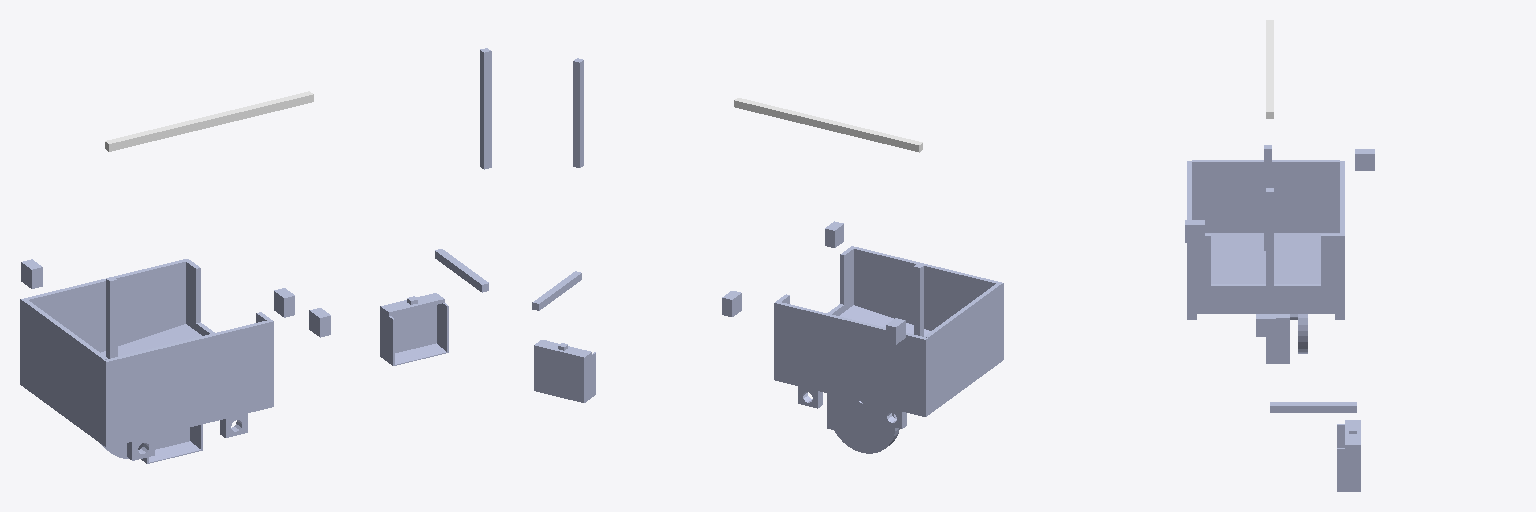
robot.urdf — bot13:
<?xml version="1.0" encoding="utf-8"?>
<!-- This URDF was automatically created by SolidWorks to URDF Exporter! Originally created by [author] ([email redacted]) 
     Commit Version: 1.4.4-24-g24328f6  Build Version: 1.5.7084.36479
     For more information, please see http://wiki.ros.org/sw_urdf_exporter -->
<robot
  name="bot13">
  <link
    name="base_link">
    <inertial>
      <origin
        xyz="0.029232 0.047061 -5.6957E-05"
        rpy="0 0 0" />
      <mass
        value="10.067" />
      <inertia
        ixx="0.22006"
        ixy="-0.0014375"
        ixz="-6.9803E-05"
        iyy="0.35668"
        iyz="7.4306E-05"
        izz="0.19974" />
    </inertial>
    <visual>
      <origin
        xyz="0 0 0"
        rpy="0 0 0" />
      <geometry>
        <mesh
          filename="package://bot13/meshes/base_link.STL" />
      </geometry>
      <material
        name="">
        <color
          rgba="0.79216 0.81961 0.93333 1" />
      </material>
    </visual>
    <collision>
      <origin
        xyz="0 0 0"
        rpy="0 0 0" />
      <geometry>
        <mesh
          filename="package://bot13/meshes/base_link.STL" />
      </geometry>
    </collision>
  </link>
  <link
    name="FRW">
    <inertial>
      <origin
        xyz="0 -7.53920386007134E-05 -0.089381031363088"
        rpy="0 0 0" />
      <mass
        value="0.8334016991443" />
      <inertia
        ixx="0.00215743548655978"
        ixy="4.33680868994202E-19"
        ixz="1.75229940963233E-19"
        iyy="0.00216058181623486"
        iyz="-8.55705036383949E-07"
        izz="0.0039286091523943" />
    </inertial>
    <visual>
      <origin
        xyz="0 0 0"
        rpy="0 0 0" />
      <geometry>
        <mesh
          filename="package://bot13/meshes/FRW.STL" />
      </geometry>
      <material
        name="">
        <color
          rgba="0.792156862745098 0.819607843137255 0.933333333333333 1" />
      </material>
    </visual>
    <collision>
      <origin
        xyz="0 0 0"
        rpy="0 0 0" />
      <geometry>
        <mesh
          filename="package://bot13/meshes/FRW.STL" />
      </geometry>
    </collision>
  </link>
  <joint
    name="FRWJ"
    type="continuous">
    <origin
      xyz="0.125 -0.13 -0.025"
      rpy="1.5708 0.39309 -3.1416" />
    <parent
      link="base_link" />
    <child
      link="FRW" />
    <axis
      xyz="0 0 1" />
    <safety_controller
      k_velocity="0" />
  </joint>
  <link
    name="RRW">
    <inertial>
      <origin
        xyz="-2.77555756156289E-17 -7.53920386007342E-05 -0.089381031363088"
        rpy="0 0 0" />
      <mass
        value="0.8334016991443" />
      <inertia
        ixx="0.00215743548655978"
        ixy="6.50521303491303E-19"
        ixz="4.68515098950035E-20"
        iyy="0.00216058181623486"
        iyz="-8.55705036383984E-07"
        izz="0.0039286091523943" />
    </inertial>
    <visual>
      <origin
        xyz="0 0 0"
        rpy="0 0 0" />
      <geometry>
        <mesh
          filename="package://bot13/meshes/RRW.STL" />
      </geometry>
      <material
        name="">
        <color
          rgba="0.792156862745098 0.819607843137255 0.933333333333333 1" />
      </material>
    </visual>
    <collision>
      <origin
        xyz="0 0 0"
        rpy="0 0 0" />
      <geometry>
        <mesh
          filename="package://bot13/meshes/RRW.STL" />
      </geometry>
    </collision>
  </link>
  <joint
    name="RRWJ"
    type="continuous">
    <origin
      xyz="-0.125 -0.13 -0.025"
      rpy="1.5708 0.39309 -3.1416" />
    <parent
      link="base_link" />
    <child
      link="RRW" />
    <axis
      xyz="0 0 1" />
    <safety_controller
      k_velocity="0" />
  </joint>
  <link
    name="FLW">
    <inertial>
      <origin
        xyz="0 -7.5392E-05 -0.089381"
        rpy="0 0 0" />
      <mass
        value="0.8334" />
      <inertia
        ixx="0.0021574"
        ixy="-8.7964E-21"
        ixz="2.7837E-19"
        iyy="0.0021606"
        iyz="-8.5571E-07"
        izz="0.0039286" />
    </inertial>
    <visual>
      <origin
        xyz="0 0 0"
        rpy="0 0 0" />
      <geometry>
        <mesh
          filename="package://bot13/meshes/FLW.STL" />
      </geometry>
      <material
        name="">
        <color
          rgba="0.79216 0.81961 0.93333 1" />
      </material>
    </visual>
    <collision>
      <origin
        xyz="0 0 0"
        rpy="0 0 0" />
      <geometry>
        <mesh
          filename="package://bot13/meshes/FLW.STL" />
      </geometry>
    </collision>
  </link>
  <joint
    name="FLWJ"
    type="continuous">
    <origin
      xyz="0.125 0.13 -0.025"
      rpy="1.5708 0 0" />
    <parent
      link="base_link" />
    <child
      link="FLW" />
    <axis
      xyz="0 0 1" />
    <safety_controller
      k_velocity="0" />
  </joint>
  <link
    name="RLW">
    <inertial>
      <origin
        xyz="-1.38777878078145E-17 -7.53920386007238E-05 -0.0893810313630881"
        rpy="0 0 0" />
      <mass
        value="0.8334016991443" />
      <inertia
        ixx="0.00215743548655978"
        ixy="-8.79635490065067E-21"
        ixz="2.78368928810459E-19"
        iyy="0.00216058181623486"
        iyz="-8.5570503638385E-07"
        izz="0.0039286091523943" />
    </inertial>
    <visual>
      <origin
        xyz="0 0 0"
        rpy="0 0 0" />
      <geometry>
        <mesh
          filename="package://bot13/meshes/RLW.STL" />
      </geometry>
      <material
        name="">
        <color
          rgba="0.792156862745098 0.819607843137255 0.933333333333333 1" />
      </material>
    </visual>
    <collision>
      <origin
        xyz="0 0 0"
        rpy="0 0 0" />
      <geometry>
        <mesh
          filename="package://bot13/meshes/RLW.STL" />
      </geometry>
    </collision>
  </link>
  <joint
    name="RLWJ"
    type="continuous">
    <origin
      xyz="-0.125 0.13 -0.025"
      rpy="1.5708 0 0" />
    <parent
      link="base_link" />
    <child
      link="RLW" />
    <axis
      xyz="0 0 1" />
    <safety_controller
      k_velocity="0" />
  </joint>
  <link
    name="FC">
    <inertial>
      <origin
        xyz="0.015 -6.93889390390723E-18 -3.74580556821112E-17"
        rpy="0 0 0" />
      <mass
        value="0.0749999999999999" />
      <inertia
        ixx="3.125E-05"
        ixy="0"
        ixz="0"
        iyy="2.125E-05"
        iyz="-1.95156391047391E-21"
        izz="2.125E-05" />
    </inertial>
    <visual>
      <origin
        xyz="0 0 0"
        rpy="0 0 0" />
      <geometry>
        <mesh
          filename="package://bot13/meshes/FC.STL" />
      </geometry>
      <material
        name="">
        <color
          rgba="0.792156862745098 0.819607843137255 0.933333333333333 1" />
      </material>
    </visual>
    <collision>
      <origin
        xyz="0 0 0"
        rpy="0 0 0" />
      <geometry>
        <mesh
          filename="package://bot13/meshes/FC.STL" />
      </geometry>
    </collision>
  </link>
  <joint
    name="FCJ"
    type="fixed">
    <origin
      xyz="0.225 0 0.04"
      rpy="1.5708 0 0" />
    <parent
      link="base_link" />
    <child
      link="FC" />
    <axis
      xyz="0 0 0" />
    <safety_controller
      k_velocity="0" />
  </joint>
  <link
    name="RC">
    <inertial>
      <origin
        xyz="0.015 0 -6.93889390390723E-18"
        rpy="0 0 0" />
      <mass
        value="0.075" />
      <inertia
        ixx="3.125E-05"
        ixy="-1.62630325872826E-22"
        ixz="4.23516473627154E-22"
        iyy="2.125E-05"
        iyz="-1.30556011603463E-21"
        izz="2.125E-05" />
    </inertial>
    <visual>
      <origin
        xyz="0 0 0"
        rpy="0 0 0" />
      <geometry>
        <mesh
          filename="package://bot13/meshes/RC.STL" />
      </geometry>
      <material
        name="">
        <color
          rgba="0.792156862745098 0.819607843137255 0.933333333333333 1" />
      </material>
    </visual>
    <collision>
      <origin
        xyz="0 0 0"
        rpy="0 0 0" />
      <geometry>
        <mesh
          filename="package://bot13/meshes/RC.STL" />
      </geometry>
    </collision>
  </link>
  <joint
    name="RCJ"
    type="fixed">
    <origin
      xyz="0.05 -0.23 0.125"
      rpy="1.5708 0 1.5708" />
    <parent
      link="base_link" />
    <child
      link="RC" />
    <axis
      xyz="0 0 0" />
    <safety_controller
      k_velocity="0" />
  </joint>
  <link
    name="LC">
    <inertial>
      <origin
        xyz="0.015 0 6.93889390390723E-18"
        rpy="0 0 0" />
      <mass
        value="0.075" />
      <inertia
        ixx="3.125E-05"
        ixy="-1.62630325872825E-22"
        ixz="4.23516473627155E-22"
        iyy="2.125E-05"
        iyz="6.50521303491303E-22"
        izz="2.125E-05" />
    </inertial>
    <visual>
      <origin
        xyz="0 0 0"
        rpy="0 0 0" />
      <geometry>
        <mesh
          filename="package://bot13/meshes/LC.STL" />
      </geometry>
      <material
        name="">
        <color
          rgba="0.792156862745098 0.819607843137255 0.933333333333333 1" />
      </material>
    </visual>
    <collision>
      <origin
        xyz="0 0 0"
        rpy="0 0 0" />
      <geometry>
        <mesh
          filename="package://bot13/meshes/LC.STL" />
      </geometry>
    </collision>
  </link>
  <joint
    name="LCJ"
    type="fixed">
    <origin
      xyz="0.05 0.2 0.125"
      rpy="1.5708 0 1.5708" />
    <parent
      link="base_link" />
    <child
      link="LC" />
    <axis
      xyz="0 0 0" />
    <safety_controller
      k_velocity="0" />
  </joint>
  <link
    name="B">
    <inertial>
      <origin
        xyz="0.00625000000000001 0.099085 -2.21955375401734E-17"
        rpy="0 0 0" />
      <mass
        value="0.928921875000001" />
      <inertia
        ixx="0.0139258044771535"
        ixy="-1.03035018585451E-36"
        ixz="3.57062560219177E-20"
        iyy="0.0108978985595703"
        iyz="-5.01177010446494E-19"
        izz="0.00305209659141133" />
    </inertial>
    <visual>
      <origin
        xyz="0 0 0"
        rpy="0 0 0" />
      <geometry>
        <mesh
          filename="package://bot13/meshes/B.STL" />
      </geometry>
      <material
        name="">
        <color
          rgba="0.792156862745098 0.819607843137255 0.933333333333333 1" />
      </material>
    </visual>
    <collision>
      <origin
        xyz="0 0 0"
        rpy="0 0 0" />
      <geometry>
        <mesh
          filename="package://bot13/meshes/B.STL" />
      </geometry>
    </collision>
  </link>
  <joint
    name="BJ"
    type="prismatic">
    <origin
      xyz="-0.225 0 0.022817"
      rpy="1.5708 0 0" />
    <parent
      link="base_link" />
    <child
      link="B" />
    <axis
      xyz="0 1 0" />
    <limit
      lower="-0.15"
      upper="0"
      effort="100"
      velocity="0.2" />
    <safety_controller
      k_velocity="0" />
  </joint>
  <link
    name="EP1">
    <inertial>
      <origin
        xyz="0 0 0"
        rpy="0 0 0" />
      <mass
        value="0" />
      <inertia
        ixx="0"
        ixy="0"
        ixz="0"
        iyy="0"
        iyz="0"
        izz="0" />
    </inertial>
    <visual>
      <origin
        xyz="0 0 0"
        rpy="0 0 0" />
      <geometry>
        <mesh
          filename="package://bot13/meshes/EP1.STL" />
      </geometry>
      <material
        name="">
        <color
          rgba="1 1 1 1" />
      </material>
    </visual>
    <collision>
      <origin
        xyz="0 0 0"
        rpy="0 0 0" />
      <geometry>
        <mesh
          filename="package://bot13/meshes/EP1.STL" />
      </geometry>
    </collision>
  </link>
  <joint
    name="EP1J"
    type="prismatic">
    <origin
      xyz="0 0.005 0.33"
      rpy="1.5708 0 0" />
    <parent
      link="base_link" />
    <child
      link="EP1" />
    <axis
      xyz="1 0 0" />
    <limit
      lower="0"
      upper="0.35"
      effort="100"
      velocity="0.5" />
    <safety_controller
      k_velocity="0" />
  </joint>
  <link
    name="EP2">
    <inertial>
      <origin
        xyz="0 -0.14 -8.67361737988404E-19"
        rpy="0 0 0" />
      <mass
        value="0.12" />
      <inertia
        ixx="0.000904000000000001"
        ixy="-6.71011358594389E-37"
        ixz="-1.8901257873664E-22"
        iyy="8.00000000000001E-06"
        iyz="-2.11758236813575E-21"
        izz="0.000904000000000001" />
    </inertial>
    <visual>
      <origin
        xyz="0 0 0"
        rpy="0 0 0" />
      <geometry>
        <mesh
          filename="package://bot13/meshes/EP2.STL" />
      </geometry>
      <material
        name="">
        <color
          rgba="0.792156862745098 0.819607843137255 0.933333333333333 1" />
      </material>
    </visual>
    <collision>
      <origin
        xyz="0 0 0"
        rpy="0 0 0" />
      <geometry>
        <mesh
          filename="package://bot13/meshes/EP2.STL" />
      </geometry>
    </collision>
  </link>
  <joint
    name="EP2J"
    type="prismatic">
    <origin
      xyz="0.4575 0 0"
      rpy="0 0 0" />
    <parent
      link="EP1" />
    <child
      link="EP2" />
    <axis
      xyz="0 1 0" />
    <limit
      lower="-0.23"
      upper="0"
      effort="100"
      velocity="0.5" />
    <safety_controller
      k_velocity="0" />
  </joint>
  <link
    name="EP3">
    <inertial>
      <origin
        xyz="0 -3.46944695195361E-18 0.11"
        rpy="0 0 0" />
      <mass
        value="0.0880000000000001" />
      <inertia
        ixx="0.000357866666666667"
        ixy="7.59845022550256E-23"
        ixz="2.89771100632959E-22"
        iyy="0.000357866666666667"
        iyz="1.82145964977565E-21"
        izz="5.86666666666668E-06" />
    </inertial>
    <visual>
      <origin
        xyz="0 0 0"
        rpy="0 0 0" />
      <geometry>
        <mesh
          filename="package://bot13/meshes/EP3.STL" />
      </geometry>
      <material
        name="">
        <color
          rgba="0.792156862745098 0.819607843137255 0.933333333333333 1" />
      </material>
    </visual>
    <collision>
      <origin
        xyz="0 0 0"
        rpy="0 0 0" />
      <geometry>
        <mesh
          filename="package://bot13/meshes/EP3.STL" />
      </geometry>
    </collision>
  </link>
  <joint
    name="EP3J"
    type="fixed">
    <origin
      xyz="0 -0.3 -0.11"
      rpy="0 0 0" />
    <parent
      link="EP2" />
    <child
      link="EP3" />
    <axis
      xyz="0 0 0" />
    <safety_controller
      k_velocity="0" />
  </joint>
  <link
    name="FR">
    <inertial>
      <origin
        xyz="0.0750000000000001 0.0031858741301596 -0.0445144607159572"
        rpy="0 0 0" />
      <mass
        value="0.329828638625468" />
      <inertia
        ixx="0.000707899487326371"
        ixy="-2.85134458931942E-19"
        ixz="2.39051587715498E-19"
        iyy="0.000886130987887954"
        iyz="6.00853426152274E-06"
        izz="0.00143740871894828" />
    </inertial>
    <visual>
      <origin
        xyz="0 0 0"
        rpy="0 0 0" />
      <geometry>
        <mesh
          filename="package://bot13/meshes/FR.STL" />
      </geometry>
      <material
        name="">
        <color
          rgba="0.792156862745098 0.819607843137255 0.933333333333333 1" />
      </material>
    </visual>
    <collision>
      <origin
        xyz="0 0 0"
        rpy="0 0 0" />
      <geometry>
        <mesh
          filename="package://bot13/meshes/FR.STL" />
      </geometry>
    </collision>
  </link>
  <joint
    name="FRJ"
    type="prismatic">
    <origin
      xyz="0.075 -0.085 0.17"
      rpy="3.1416 0 3.1416" />
    <parent
      link="EP3" />
    <child
      link="FR" />
    <axis
      xyz="0 0 1" />
    <limit
      lower="-0.045"
      upper="0"
      effort="100"
      velocity="0.2" />
    <safety_controller
      k_velocity="0" />
  </joint>
  <link
    name="FL">
    <inertial>
      <origin
        xyz="0.0749999999999998 0.00318587413015963 0.00548553928404262"
        rpy="0 0 0" />
      <mass
        value="0.329828638625467" />
      <inertia
        ixx="0.000707899487326369"
        ixy="-6.40207226743562E-19"
        ixz="1.09417034419195E-18"
        iyy="0.00088613098788795"
        iyz="6.00853426152265E-06"
        izz="0.00143740871894827" />
    </inertial>
    <visual>
      <origin
        xyz="0 0 0"
        rpy="0 0 0" />
      <geometry>
        <mesh
          filename="package://bot13/meshes/FL.STL" />
      </geometry>
      <material
        name="">
        <color
          rgba="0.792156862745098 0.819607843137255 0.933333333333333 1" />
      </material>
    </visual>
    <collision>
      <origin
        xyz="0 0 0"
        rpy="0 0 0" />
      <geometry>
        <mesh
          filename="package://bot13/meshes/FL.STL" />
      </geometry>
    </collision>
  </link>
  <joint
    name="FLJ"
    type="prismatic">
    <origin
      xyz="-0.075 -0.085 0"
      rpy="0 0 0" />
    <parent
      link="EP3" />
    <child
      link="FL" />
    <axis
      xyz="0 0 1" />
    <limit
      lower="0"
      upper="0.045"
      effort="100"
      velocity="0.2" />
    <safety_controller
      k_velocity="0" />
  </joint>
</robot>

--- What the picture shows (computed from the rendered views, not written in the file) ---
The picture shows the robot from 3 angles, left to right: view 1: azimuth 30°, elevation 25°; view 2: azimuth 150°, elevation 25°; view 3: azimuth 270°, elevation 25°; orthographic projection.
Robot: bot13 — 14 links, 13 joints (4 continuous, 5 prismatic, 4 fixed); root link base_link; default pose: all joints at 0.
Visible links, largest first — view 1: base_link, B, FL, EP1, EP2, FR, EP3, FC, LC, RC; view 2: base_link, B, FL, FRW, EP1, EP2, EP3; view 3: base_link, B, FL, FR, EP3, EP2, EP1.
Link boxes in pixels (left/top/right/bottom): base_link: left=20, top=259, right=273, bottom=460; B: left=23, top=300, right=107, bottom=436; FL: left=380, top=293, right=448, bottom=365; EP1: left=105, top=91, right=313, bottom=151; EP2: left=480, top=48, right=491, bottom=169; FR: left=138, top=424, right=202, bottom=463; EP3: left=435, top=249, right=488, bottom=292; FC: left=309, top=308, right=330, bottom=337; LC: left=21, top=259, right=42, bottom=288; RC: left=274, top=288, right=294, bottom=317; base_link: left=774, top=246, right=1003, bottom=428; B: left=924, top=283, right=1000, bottom=406; FL: left=534, top=340, right=595, bottom=402; FRW: left=828, top=395, right=899, bottom=453; EP1: left=734, top=98, right=922, bottom=152; EP2: left=573, top=58, right=583, bottom=167; EP3: left=532, top=271, right=581, bottom=310; base_link: left=1187, top=145, right=1344, bottom=319; B: left=1192, top=160, right=1339, bottom=232; FL: left=1337, top=420, right=1360, bottom=491; FR: left=1266, top=314, right=1289, bottom=363; EP3: left=1270, top=402, right=1356, bottom=412; EP2: left=1266, top=188, right=1273, bottom=298; EP1: left=1266, top=20, right=1273, bottom=118.
Bounding box of the posed robot: 1.15 × 0.48 × 0.8656 m (x, y, z).
11 mesh visuals loaded from 14 distinct referenced files (11 binary STL); not drawn: 3 (reference not matched to a file when rendering).